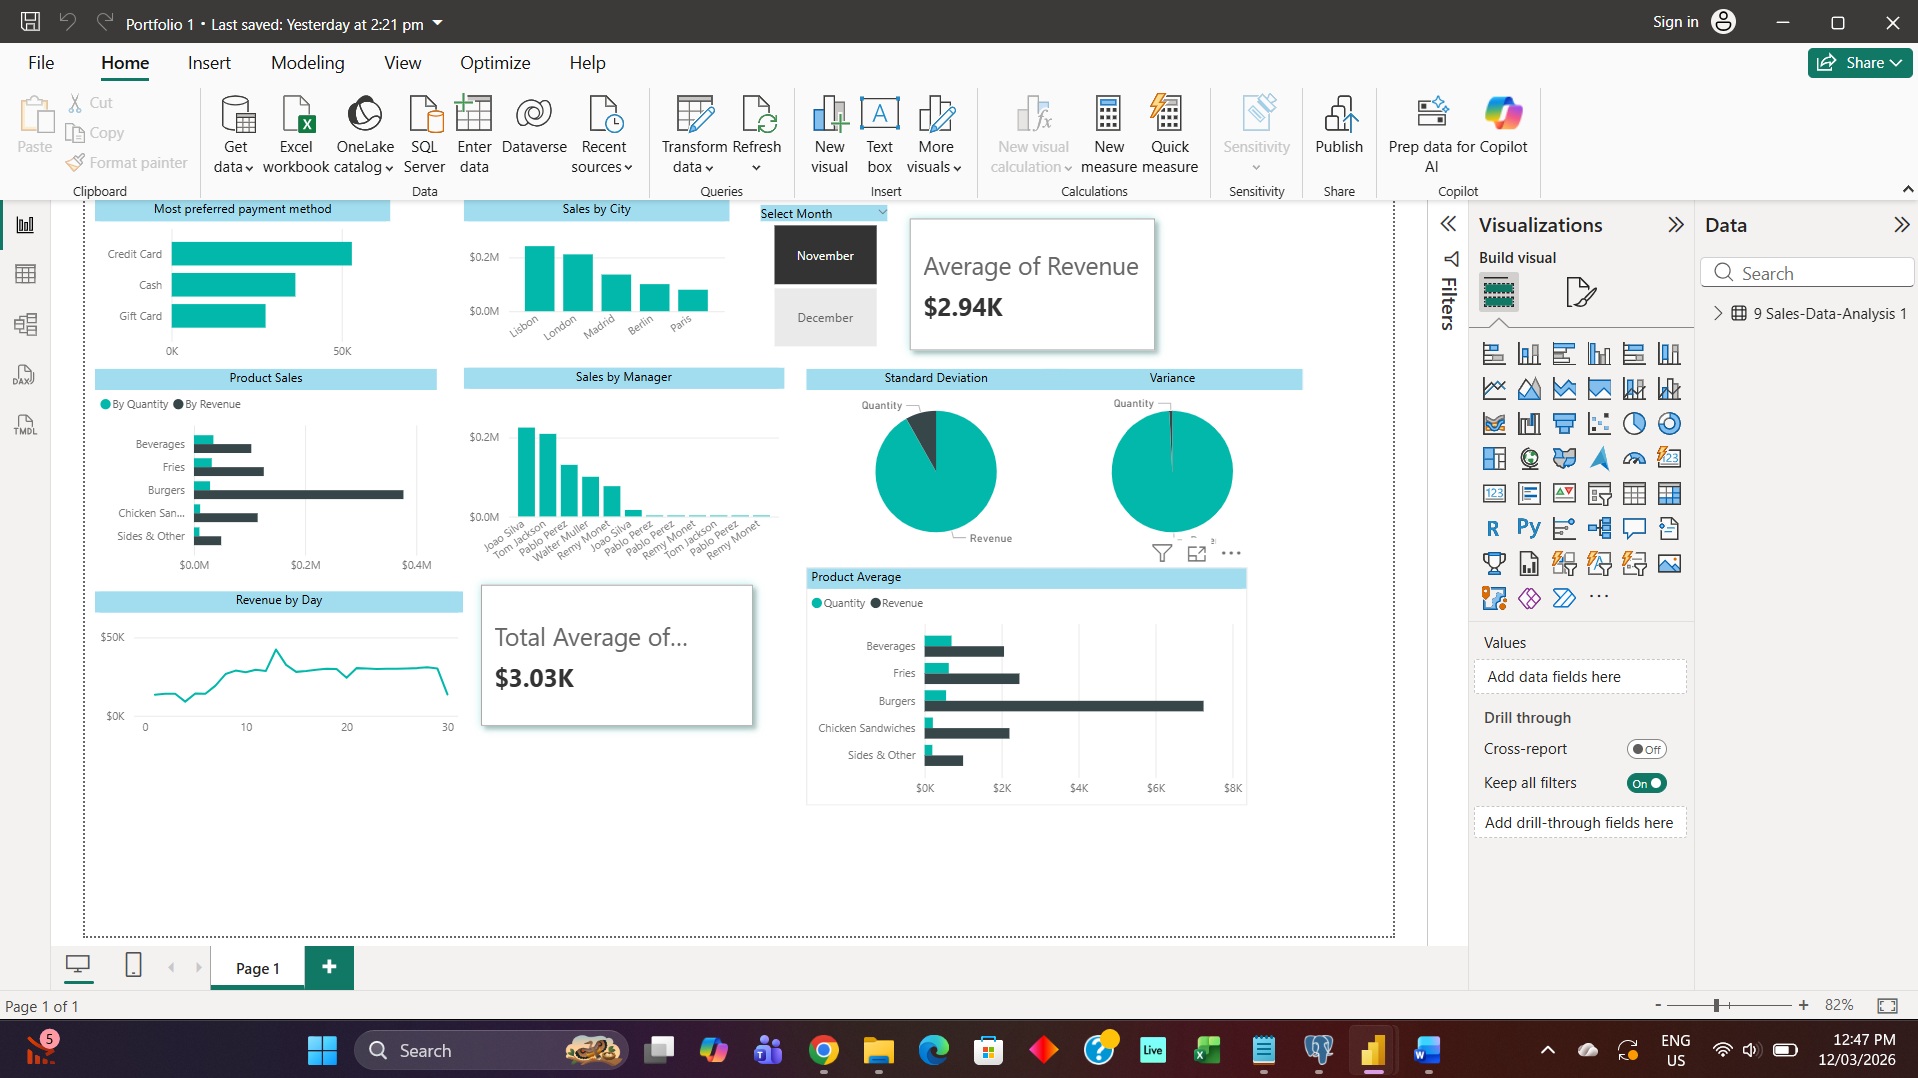

This screenshot's page, from the dashboard's own definition file:
{"tool":"powerbi","page":{"name":"Page 1","canvas":[1280,720],"ordinal":0},"visuals":[{"type":"clusteredBarChart","title":"Most preferred payment method","fields":{"Category":["9  Sales-Data-Analysis 1.Payment Method"],"Y":["Sum(9  Sales-Data-Analysis 1.Quantity)"]},"box":[10,0,288.9,165.6],"z":0},{"type":"clusteredBarChart","title":"Product Sales","fields":{"Category":["9  Sales-Data-Analysis 1.Product"],"Y":["Sum(9  Sales-Data-Analysis 1.Quantity)","Sum(9  Sales-Data-Analysis 1.Revenue)"]},"box":[10,165.6,334.4,208.9],"z":1000},{"type":"columnChart","title":"Sales by City","fields":{"Y":["Sum(9  Sales-Data-Analysis 1.Revenue)"],"Category":["9  Sales-Data-Analysis 1.City"]},"box":[370,0,260,150],"z":2000},{"type":"columnChart","title":"Sales by Manager","fields":{"Y":["Sum(9  Sales-Data-Analysis 1.Revenue)"],"Category":["9  Sales-Data-Analysis 1.Manager"]},"box":[370,164.4,313.3,210],"z":3000},{"type":"lineChart","title":"Revenue by Day","fields":{"Y":["Sum(9  Sales-Data-Analysis 1.Revenue)"],"Category":["9  Sales-Data-Analysis 1.Date.Variation.Date Hierarchy.Day"]},"box":[10,382.2,360,150],"z":4000},{"type":"cardVisual","fields":{"Data":["Avg(9  Sales-Data-Analysis 1.Revenue)"]},"box":[370,360,300,172.2],"z":5000},{"type":"cardVisual","fields":{"Data":["Avg(9  Sales-Data-Analysis 1.Revenue)"]},"box":[790,1.1,274.4,163.3],"z":6000},{"type":"slicer","fields":{"Values":["9  Sales-Data-Analysis 1.Date.Variation.Date Hierarchy.Month"]},"box":[647.8,0,150,150],"z":7000},{"type":"pieChart","title":"Standard Deviation","fields":{"Y":["StandardDeviation(9  Sales-Data-Analysis 1.Revenue)","StandardDeviation(9  Sales-Data-Analysis 1.Quantity)"]},"box":[706,165.6,254.4,185.6],"z":8000},{"type":"pieChart","title":"Variance","fields":{"Y":["StandardDeviation(9  Sales-Data-Analysis 1.Revenue)","StandardDeviation(9  Sales-Data-Analysis 1.Quantity)"]},"box":[936.7,165.6,254.4,185.6],"z":9000},{"type":"clusteredBarChart","title":"Product Average","fields":{"Category":["9  Sales-Data-Analysis 1.Product"],"Y":["Avg(9  Sales-Data-Analysis 1.Quantity)","Avg(9  Sales-Data-Analysis 1.Revenue)"]},"box":[705.6,360,431.1,232.2],"z":9001}]}

Visuals, with their boxes on the page's 1280x720 design canvas (x1, y1, x2, y2). These are canvas units, not pixel positions in the 1918x1078 screenshot, which may show the page scaled, cropped or inside an application window:
"Most preferred payment method" clusteredBarChart: {"x1": 10, "y1": 0, "x2": 299, "y2": 166}
"Product Sales" clusteredBarChart: {"x1": 10, "y1": 166, "x2": 344, "y2": 374}
"Sales by City" columnChart: {"x1": 370, "y1": 0, "x2": 630, "y2": 150}
"Sales by Manager" columnChart: {"x1": 370, "y1": 164, "x2": 683, "y2": 374}
"Revenue by Day" lineChart: {"x1": 10, "y1": 382, "x2": 370, "y2": 532}
cardVisual - Avg(9  Sales-Data-Analysis 1.Revenue): {"x1": 370, "y1": 360, "x2": 670, "y2": 532}
cardVisual - Avg(9  Sales-Data-Analysis 1.Revenue): {"x1": 790, "y1": 1, "x2": 1064, "y2": 164}
slicer - 9  Sales-Data-Analysis 1.Date.Variation.Date Hierarchy.Month: {"x1": 648, "y1": 0, "x2": 798, "y2": 150}
"Standard Deviation" pieChart: {"x1": 706, "y1": 166, "x2": 960, "y2": 351}
"Variance" pieChart: {"x1": 937, "y1": 166, "x2": 1191, "y2": 351}
"Product Average" clusteredBarChart: {"x1": 706, "y1": 360, "x2": 1137, "y2": 592}
